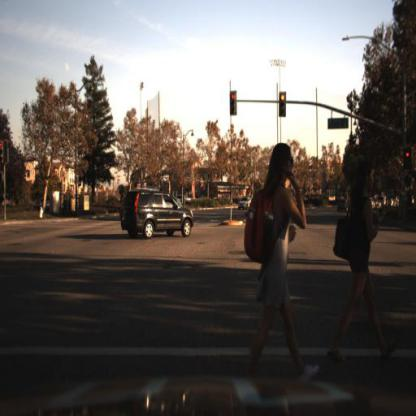car: (118, 186, 195, 241)
pedestrian: (242, 138, 321, 386), (327, 152, 402, 370)
trafficLight-Red: (403, 146, 415, 174), (278, 88, 288, 121)
trafficLight-RedLeft: (229, 88, 239, 119)
